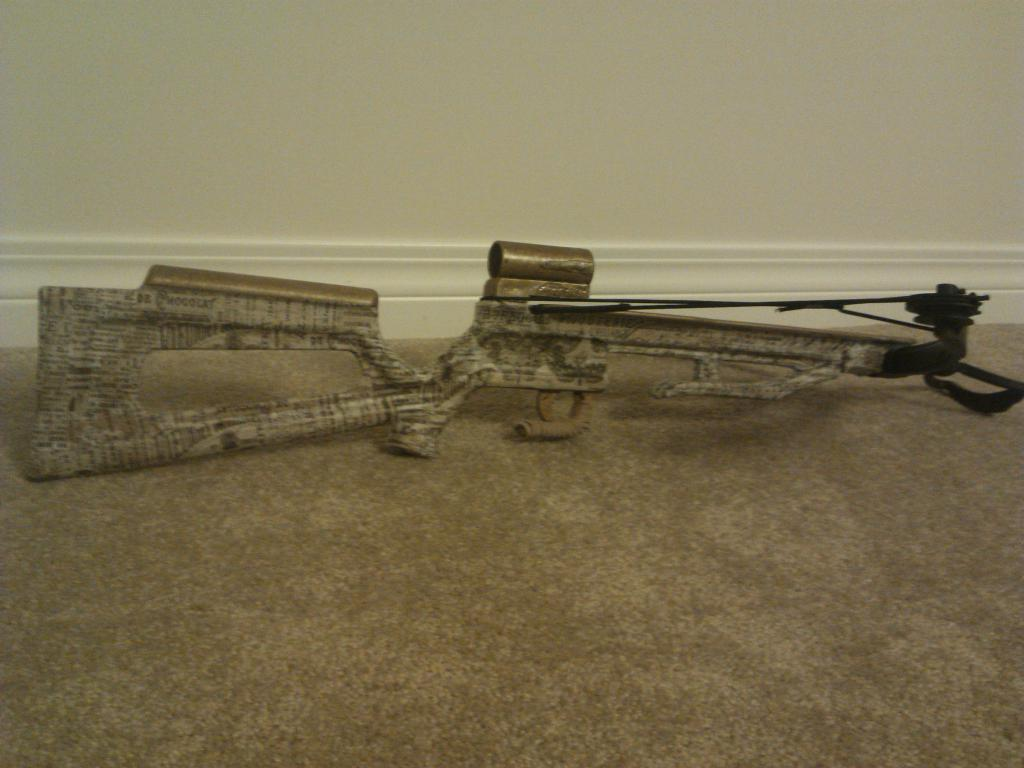Shotgun: (23, 240, 1024, 482)
